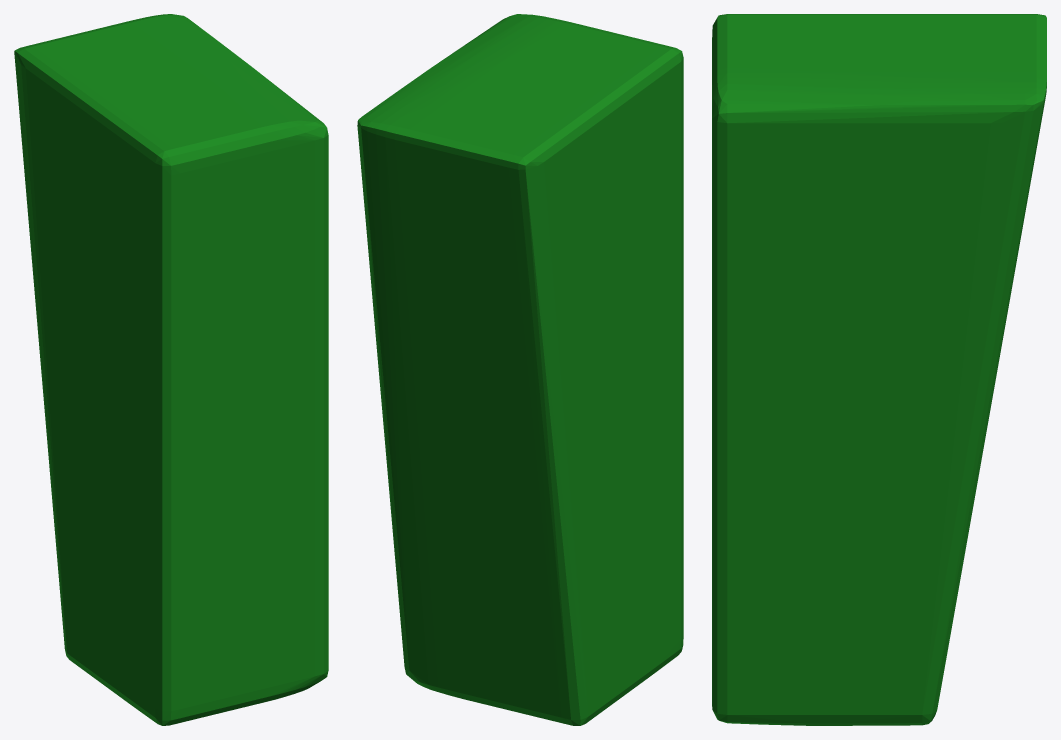
File: left_f_distal_pst_part_8.obj
3 renders of one model, left to right at view 1: azimuth 30°, elevation 25°; view 2: azimuth 150°, elevation 25°; view 3: azimuth 270°, elevation 25°, orthographic. The views are drawn at different scales.
Bounding box in the file's own units: 4.55 × 14.6 × 6.99.
